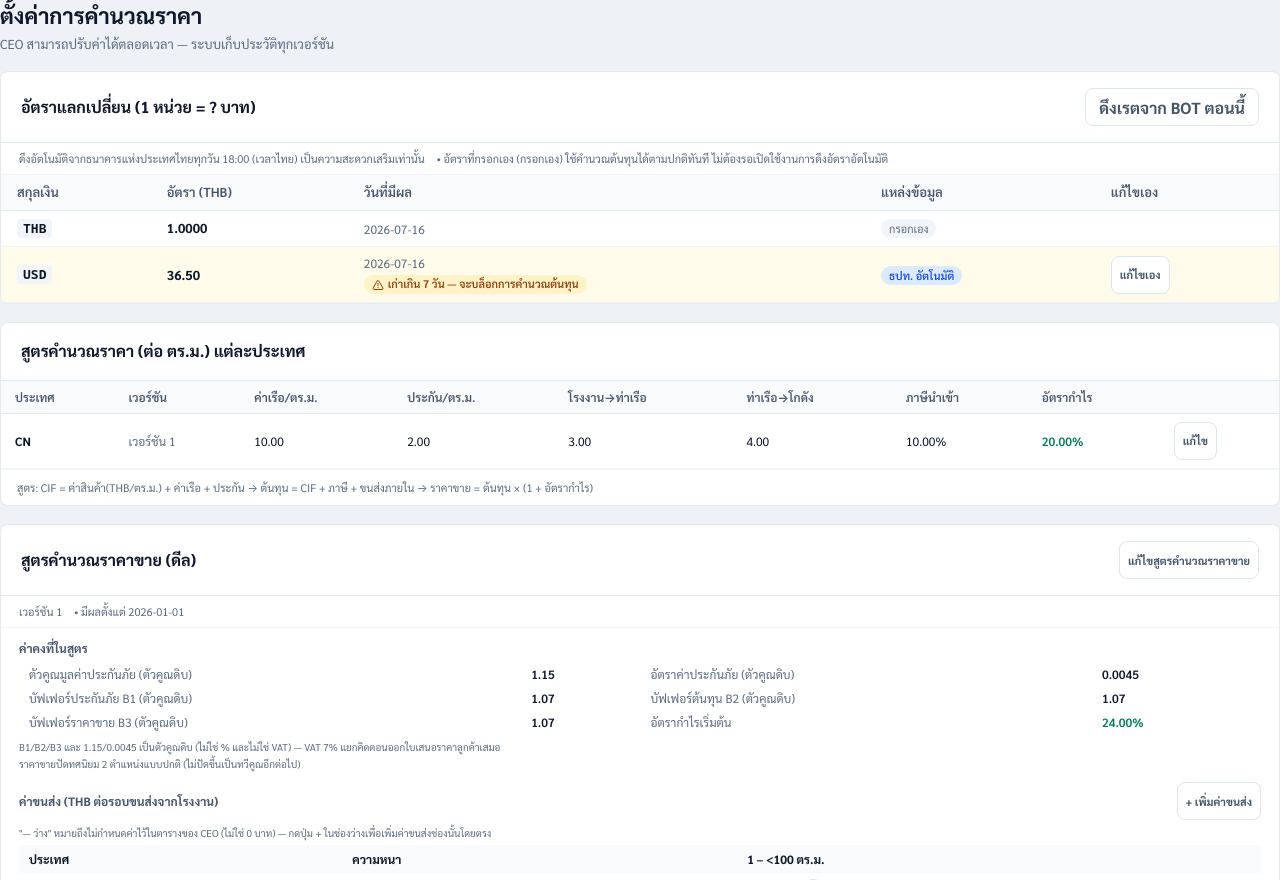
Test: CeoSettingsPage › opens the config editor as a real dialog and closes it on Escape
The width and height of the screenshot is (1280, 880).
expect the text "CN" is shown: met, box [1,414,114,468]
Click the button "แก้ไข" at (1195, 441), box [1174,422,1217,460]
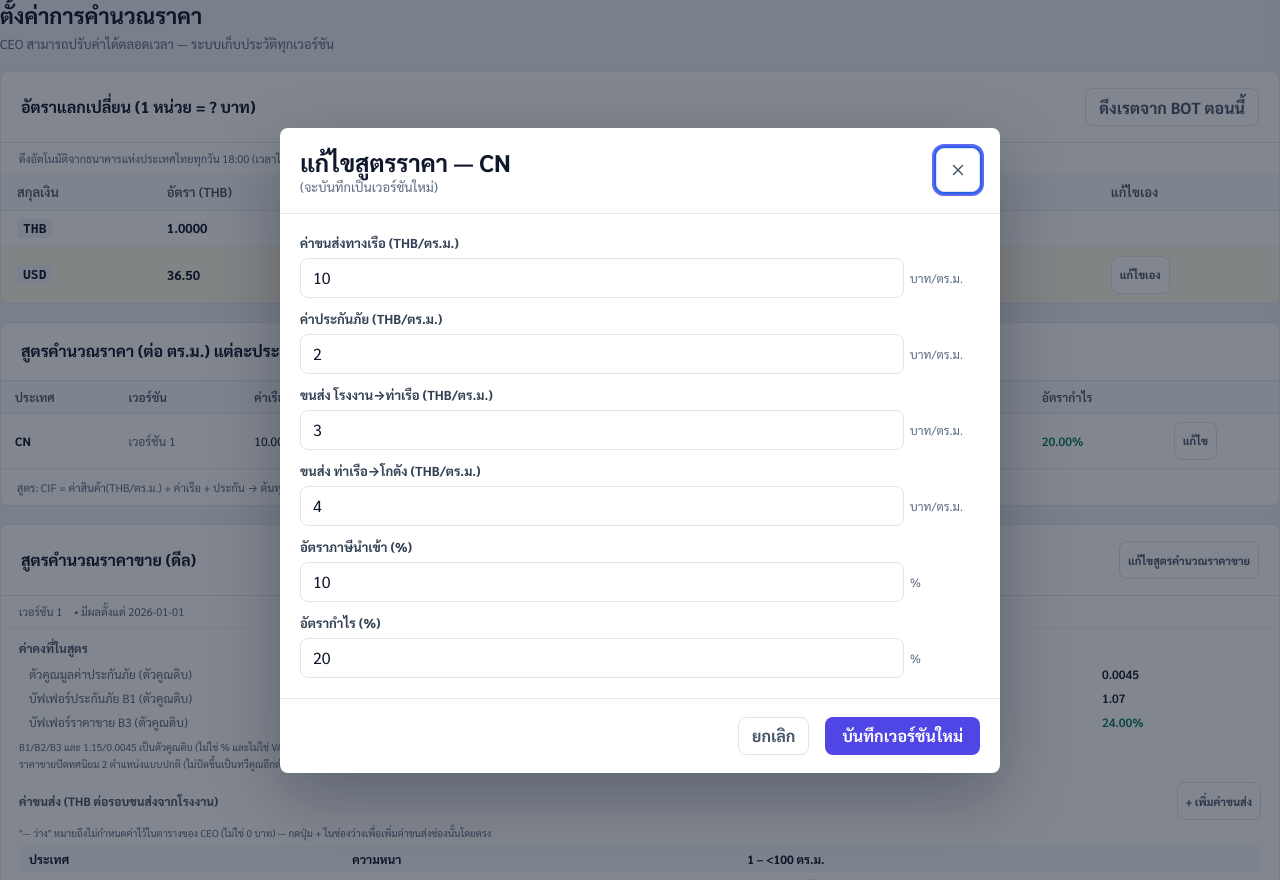
expect the heading "แก้ไขสูตรราคา — CN" is shown: met, box [300,146,511,178]
Press Escape
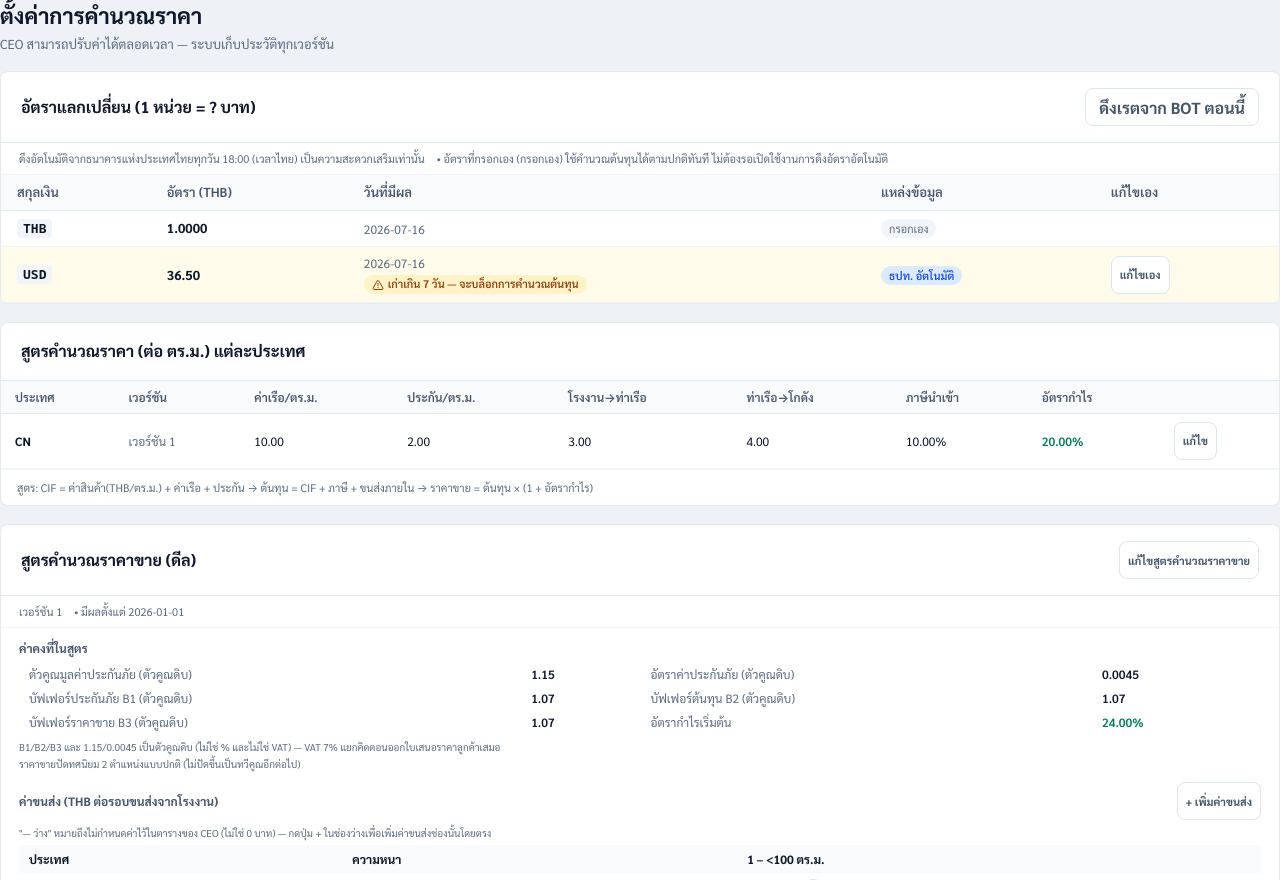
expect the dialog is gone: met
